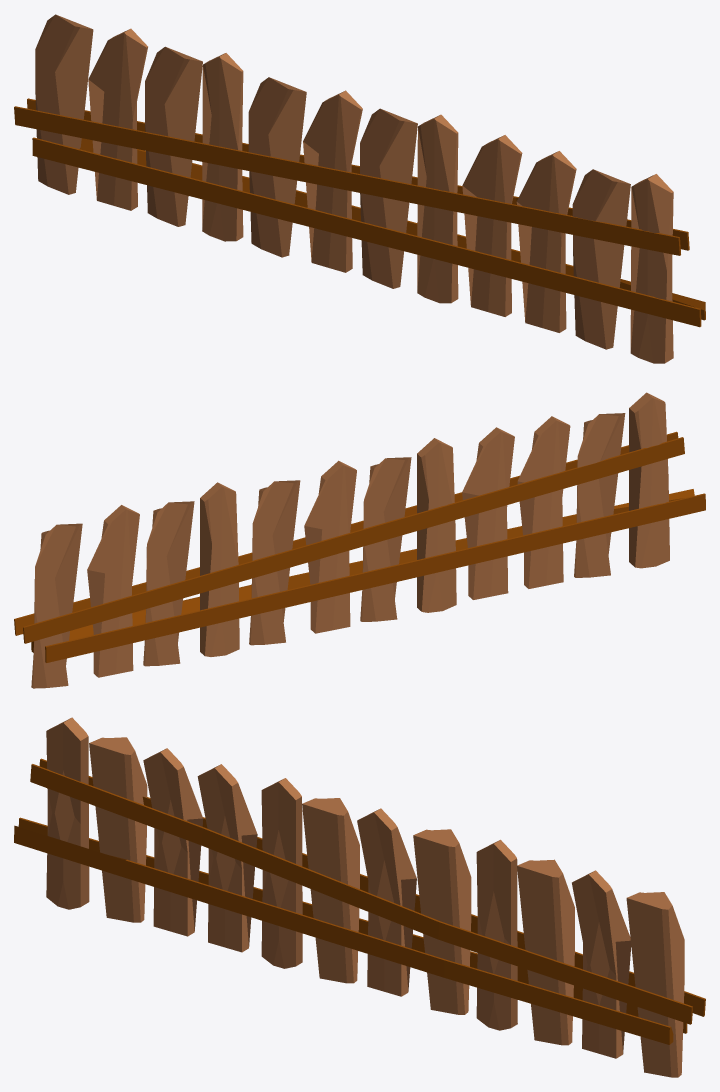
The model's file is ahsapCit.fbx.
3 renders of one model, top to bottom at view 1: azimuth 90°, elevation 25°; view 2: azimuth 150°, elevation 25°; view 3: azimuth 270°, elevation 25°, orthographic. The views are drawn at different scales.
Parts seen in each view (by area): view 1: Cube.137; view 2: Cube.137; view 3: Cube.137.
Part boxes in pixels (left/top/right/bottom): Cube.137: left=14, top=14, right=705, bottom=363; Cube.137: left=14, top=392, right=705, bottom=688; Cube.137: left=14, top=717, right=705, bottom=1077.
Bounding box in the file's own units: 702 × 301 × 1022.
